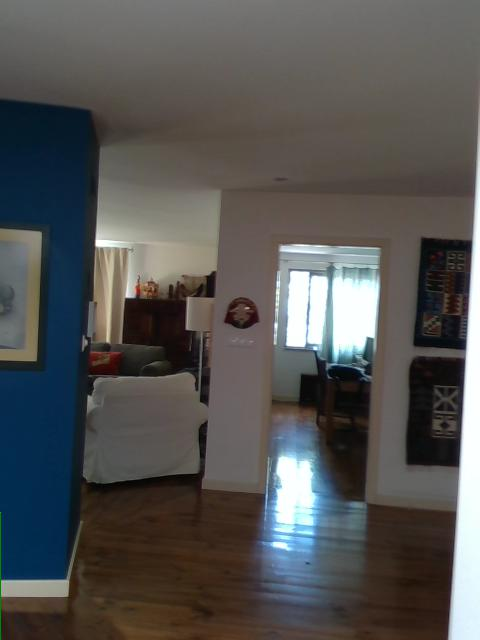open_door: (258, 231, 386, 503)
